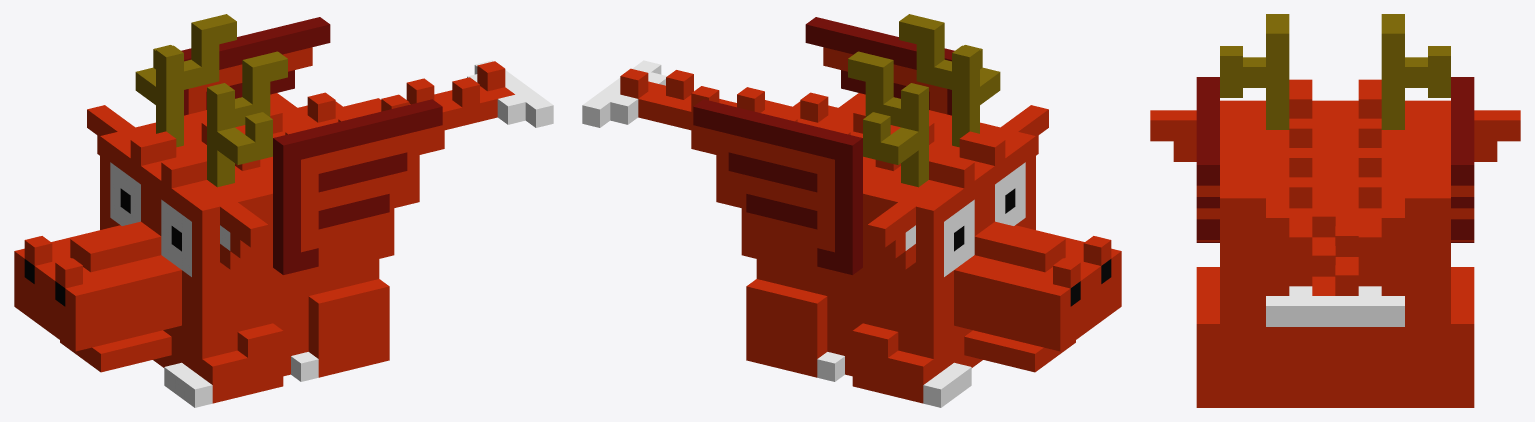
Rendered from chapter6_dragon.fbx.
3 views of the same model, side by side, from view 1: azimuth 30°, elevation 25°; view 2: azimuth 150°, elevation 25°; view 3: azimuth 270°, elevation 25° (orthographic). The views are drawn at different scales.
Visible parts, largest first — view 1: Box; view 2: Box; view 3: Box.
Boxes of the visible parts, <box> form: Box: <box>14,14,553,407</box>; Box: <box>582,14,1121,407</box>; Box: <box>1150,14,1520,407</box>.
Size of the model in its own units: 27 by 16 by 16.
